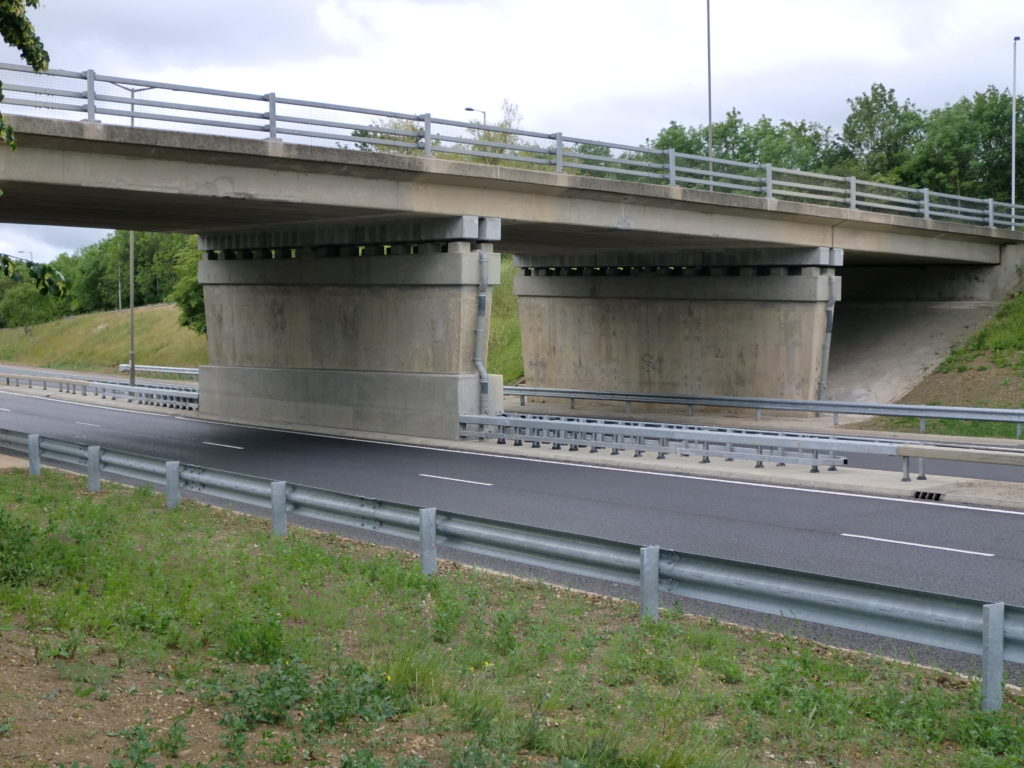bridge: (1, 62, 1021, 300)
